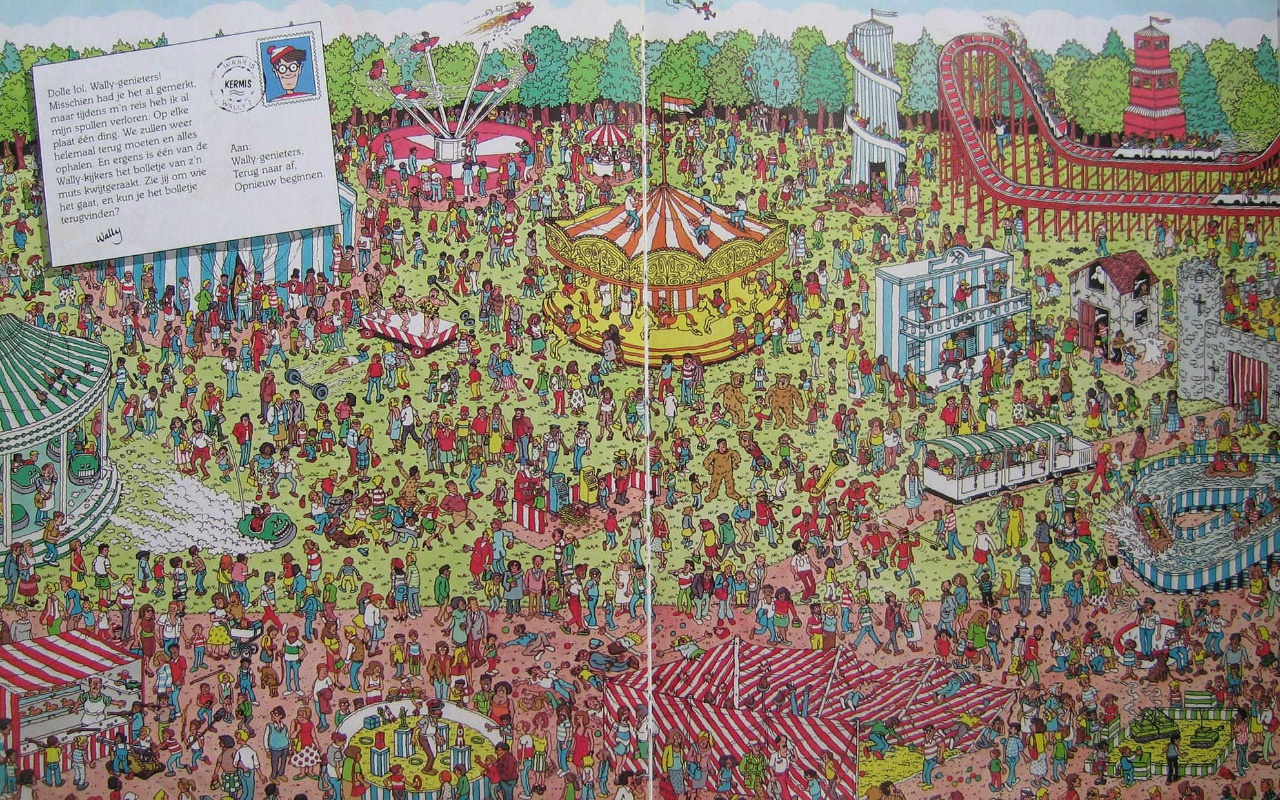waldo: (267, 44, 307, 95)
